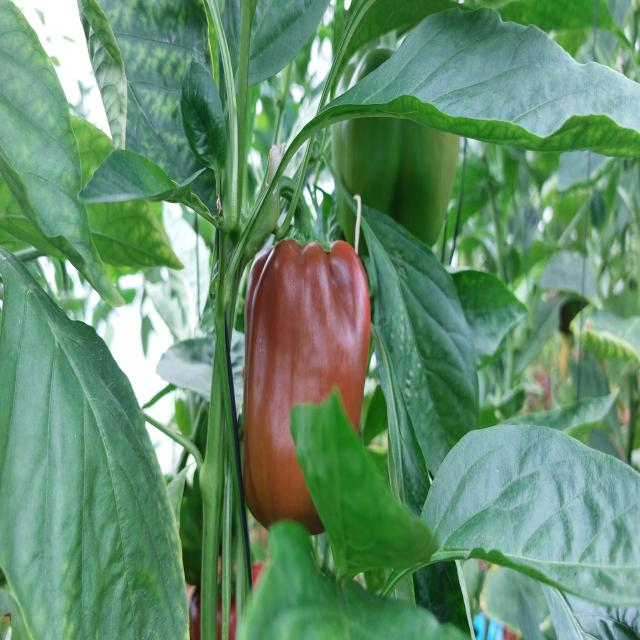BrownishRed--Can-be-Harvested: (246, 233, 374, 526)
